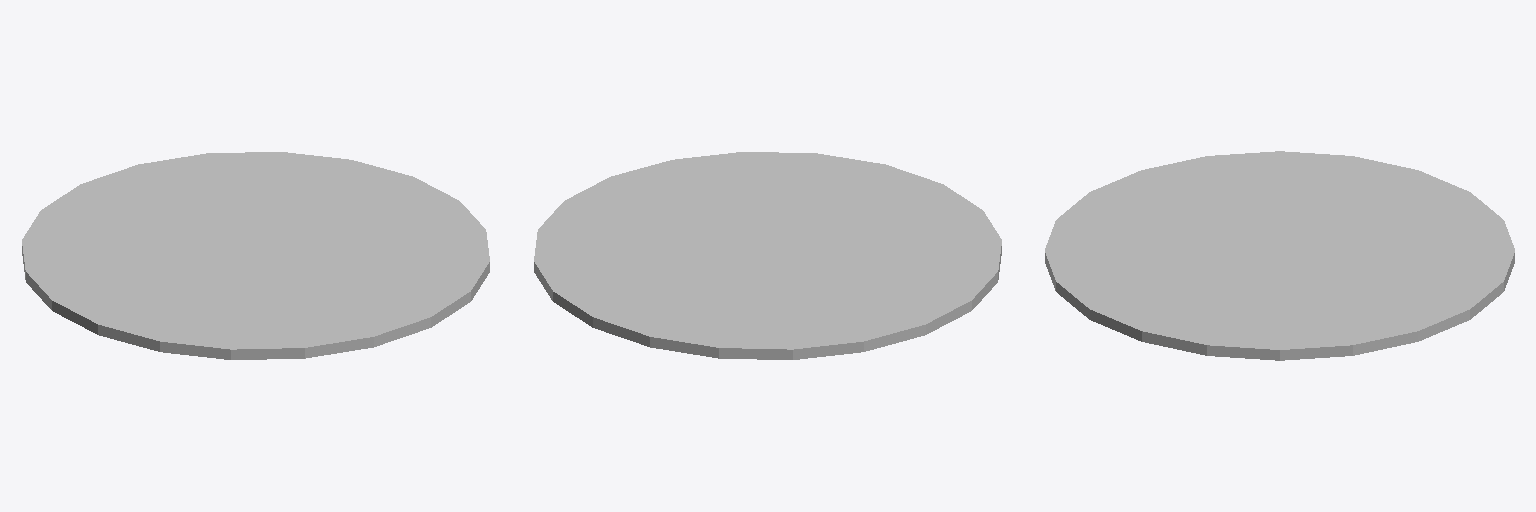
Rendered from mothershipinterior.obj.
The picture shows the model from 3 angles: view 1: azimuth 30°, elevation 25°; view 2: azimuth 150°, elevation 25°; view 3: azimuth 270°, elevation 25°; orthographic projection.
Parts seen in each view (by area): view 1: pCylinder1; view 2: pCylinder1; view 3: pCylinder1.
Boxes of the visible parts, <box> form: pCylinder1: <box>22,152,489,359</box>; pCylinder1: <box>534,152,1001,359</box>; pCylinder1: <box>1045,151,1514,360</box>.
Size of the model in its own units: 16 by 0.4 by 16.